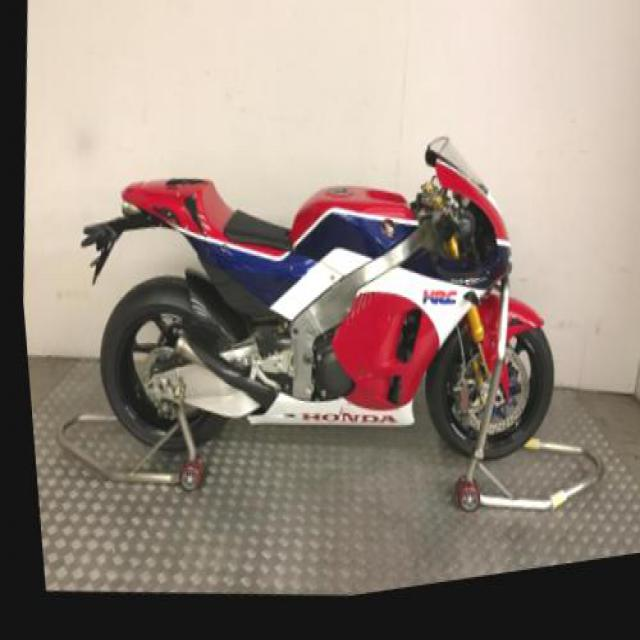HRC RCV 213: (58, 75, 577, 531)
